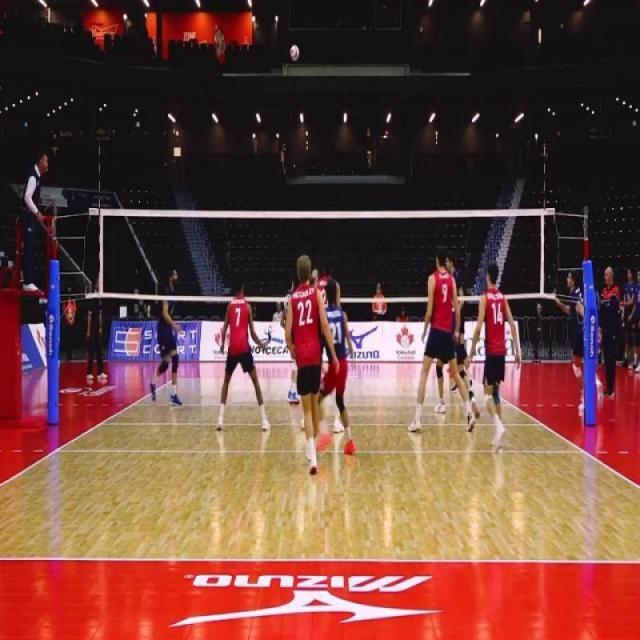volleyball: (289, 43, 300, 62)
